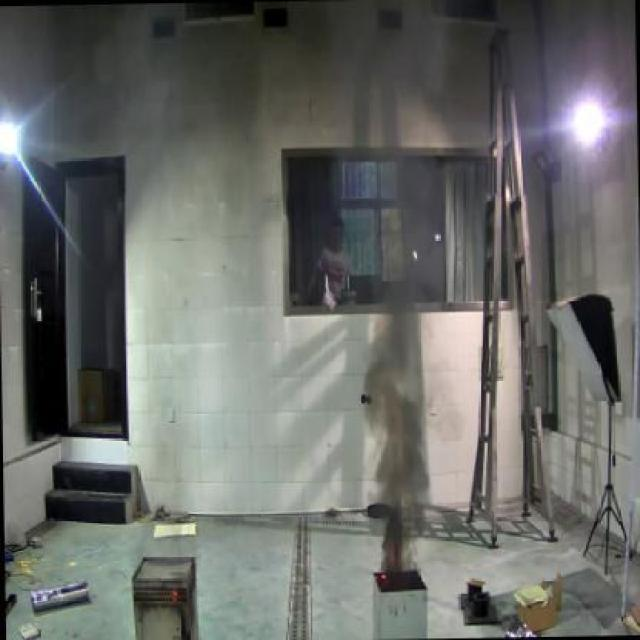fire: (358, 302, 433, 564)
